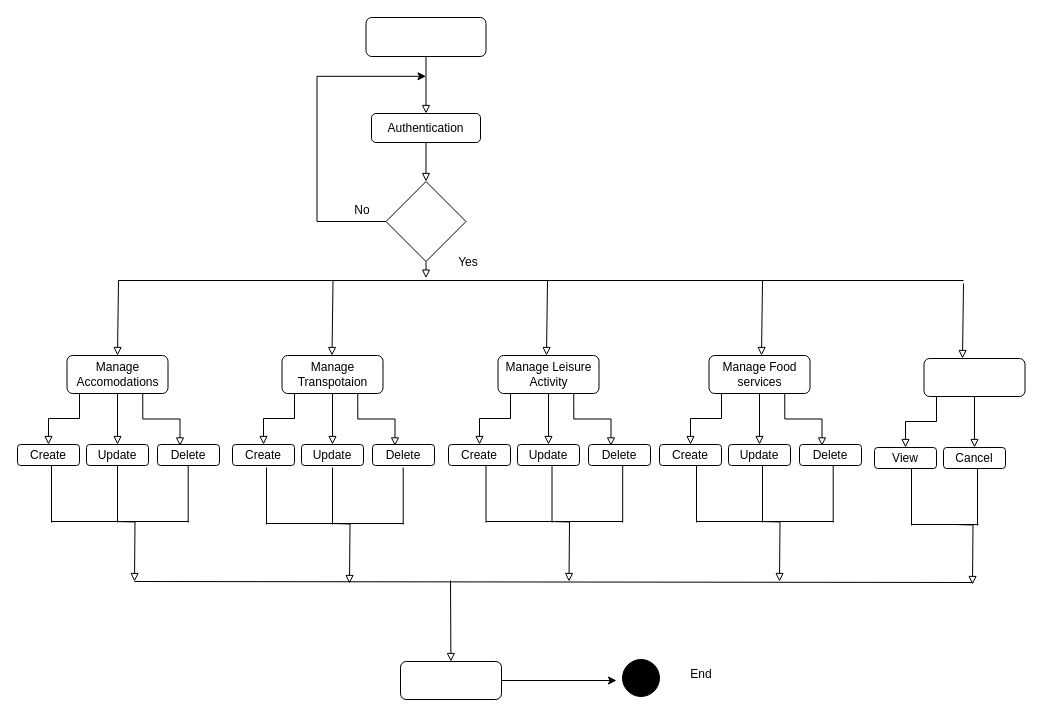
Some shapes in this 1043 by 717 pixel diagram are drawn without their labels. The box of each missing label's shape, as (x1, y1, x2, y2) in pixels:
Authenticated: (385, 180, 466, 262)
Logout: (400, 660, 502, 700)
Manage Reservations: (923, 358, 1025, 396)
Serivice Provider Login: (365, 16, 486, 56)
